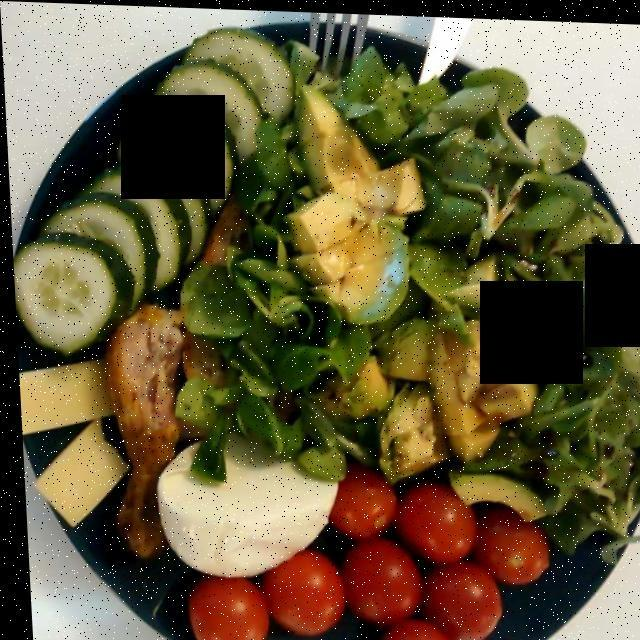avocado: (283, 82, 526, 480)
cheese: (147, 443, 333, 572), (20, 363, 123, 522)
cucumber: (29, 19, 288, 336)
salad: (158, 46, 640, 541)
tomato: (172, 475, 540, 640)
